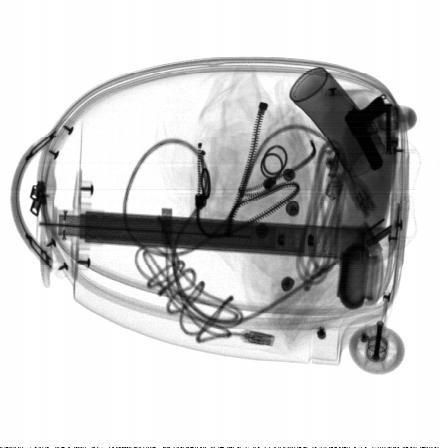Gun: (344, 96, 387, 172)
